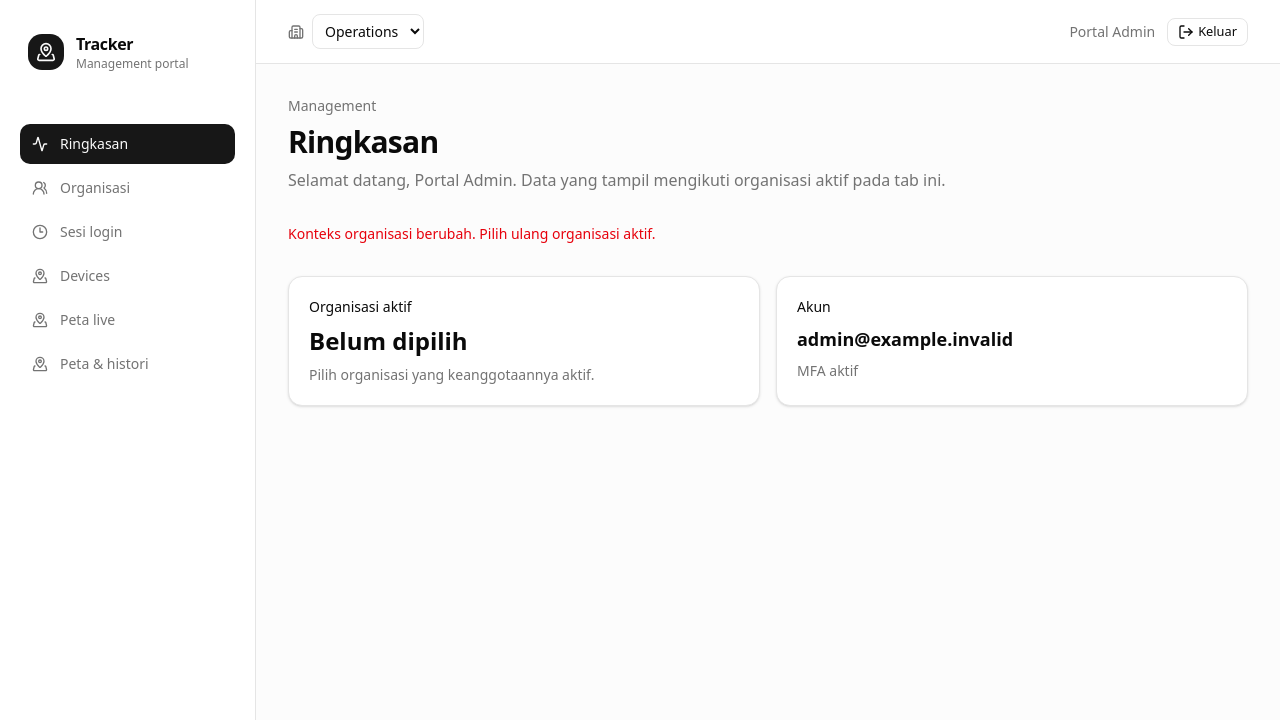
Test: tracking management portal › does not render write actions for a viewer and still explains the empty state
This screenshot has width=1280, height=720.
Click the link "Devices".
click(71, 276)  # box [32,266,110,285]
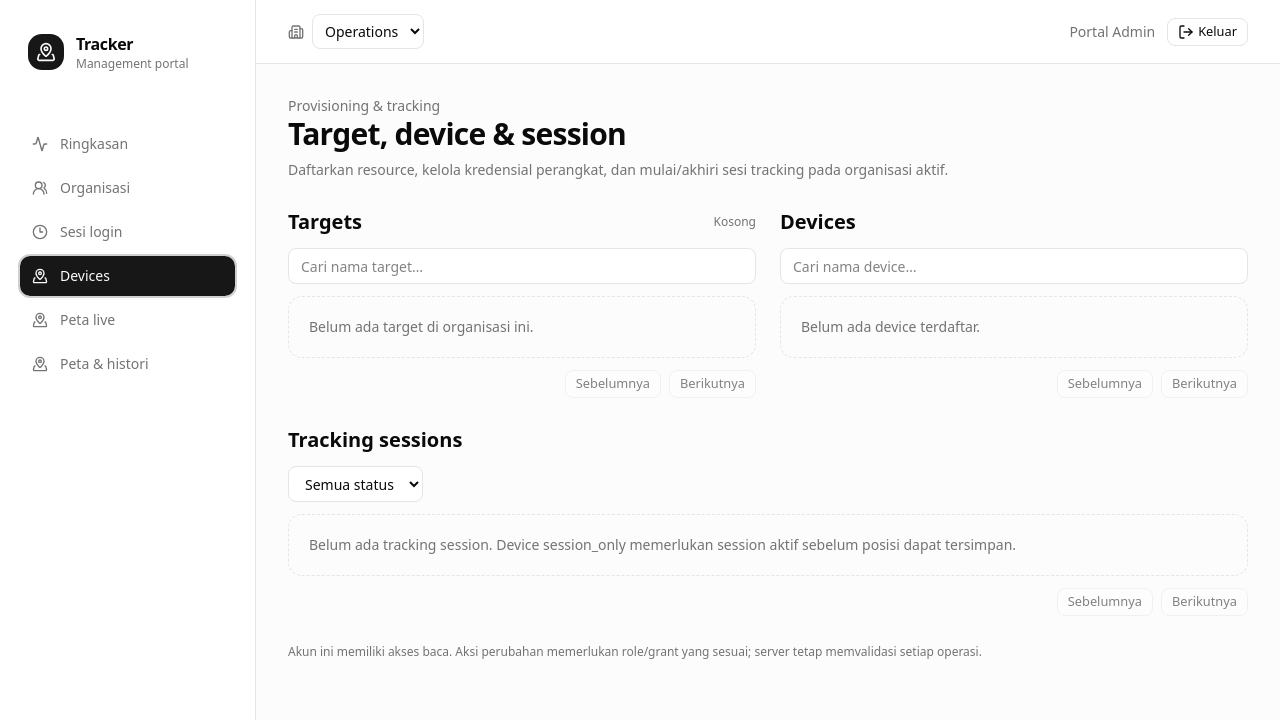
Result: the text "Belum ada device terdaftar." is shown at [780,296,1248,358]
Result: the text "memerlukan role/grant yang sesuai" is shown at [288,643,982,660]
